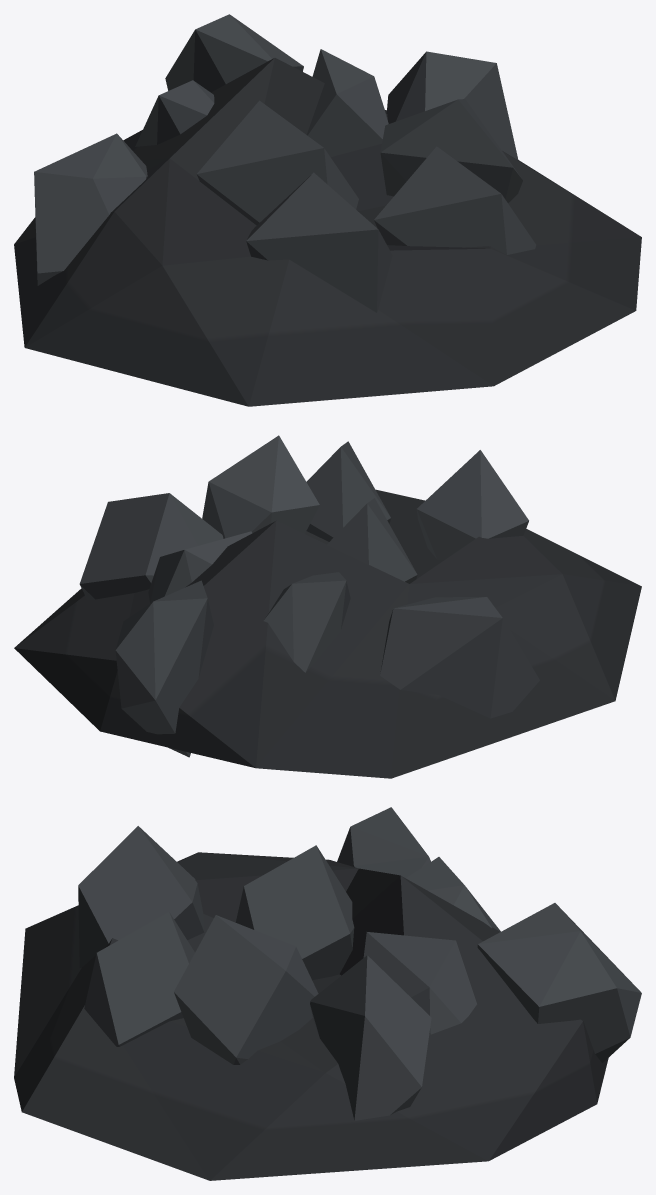
The model's file is SM_Prop_Brazier_01_Insert_01.fbx.
3 views of the same model, one above another, from view 1: azimuth 30°, elevation 25°; view 2: azimuth 150°, elevation 25°; view 3: azimuth 270°, elevation 25° (orthographic). The views are drawn at different scales.
Visible parts, largest first — view 1: SM_Prop_Brazier_01_Insert_01; view 2: SM_Prop_Brazier_01_Insert_01; view 3: SM_Prop_Brazier_01_Insert_01.
Boxes of the visible parts, <box> form: SM_Prop_Brazier_01_Insert_01: <box>14,14,641,406</box>; SM_Prop_Brazier_01_Insert_01: <box>14,435,641,778</box>; SM_Prop_Brazier_01_Insert_01: <box>14,807,641,1180</box>.
Bounding box in the file's own units: 62.12 × 21.07 × 58.31.
